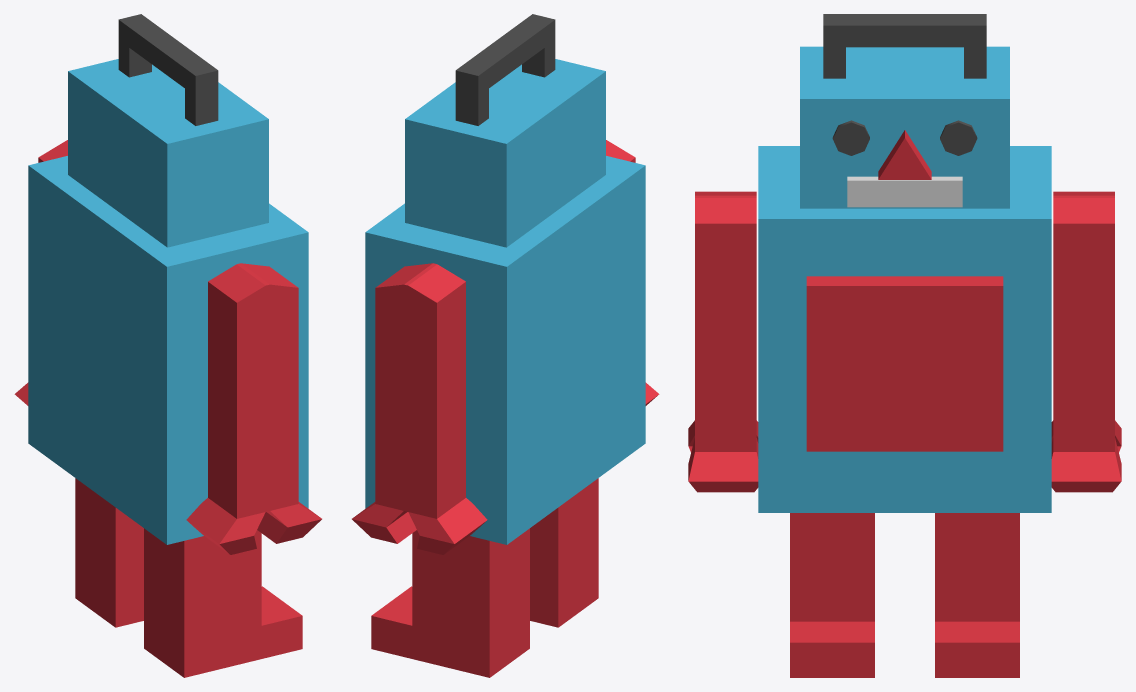
File: ToyRobot.fbx
The picture shows the model from 3 angles, left to right: view 1: azimuth 30°, elevation 25°; view 2: azimuth 150°, elevation 25°; view 3: azimuth 270°, elevation 25°; orthographic projection. The views are drawn at different scales.
Visible parts, largest first — view 1: Body, Head, ArmR, LegR, LegL, HeadBar, ArmL; view 2: Body, Head, ArmL, LegL, LegR, HeadBar, ArmR; view 3: Body, TummyCube, Head, ArmR, ArmL, LegR, LegL, HeadBar, Mouth, Nose, EyeR, EyeL.
Part boxes in pixels (x1,y1,x2,y2): Body: (28, 156, 308, 544); Head: (68, 59, 268, 247); ArmR: (186, 263, 321, 554); LegR: (144, 528, 302, 677); LegL: (75, 478, 143, 627); HeadBar: (118, 14, 218, 125); ArmL: (14, 140, 67, 405); Body: (365, 156, 645, 544); Head: (405, 59, 605, 247); ArmL: (352, 263, 487, 554); LegL: (371, 528, 529, 677); LegR: (530, 478, 598, 627); HeadBar: (455, 14, 555, 125); ArmR: (606, 140, 659, 405); Body: (758, 146, 1051, 512); TummyCube: (806, 276, 1003, 451); Head: (800, 46, 1009, 208); ArmR: (688, 191, 758, 492); ArmL: (1051, 191, 1121, 492); LegR: (790, 513, 874, 677); LegL: (935, 513, 1019, 677); HeadBar: (823, 14, 986, 78); Mouth: (847, 176, 962, 207); Nose: (878, 130, 931, 179); EyeR: (832, 120, 869, 155); EyeL: (940, 120, 977, 155).
Bounding box in the file's own units: 76.05 × 264 × 168.
